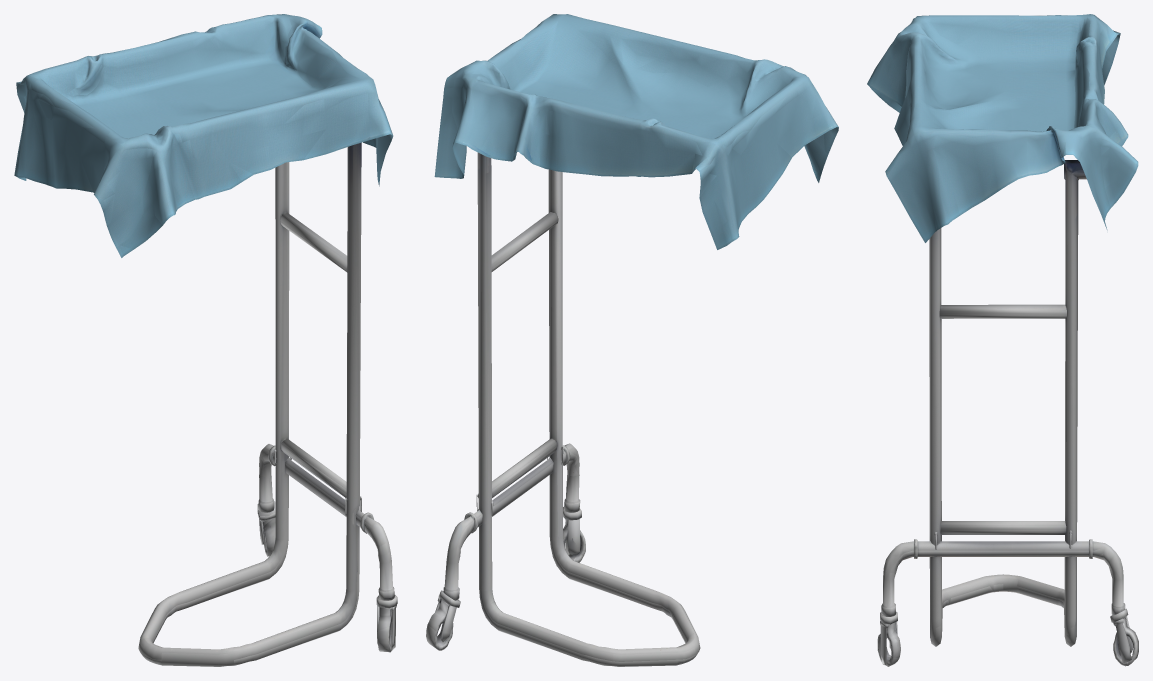
Rendered from small_mayo.glb.
3 views of the same model, side by side, from view 1: azimuth 30°, elevation 25°; view 2: azimuth 150°, elevation 25°; view 3: azimuth 270°, elevation 25° (orthographic). The views are drawn at different scales.
Visible parts, largest first — view 1: tripo_node_3ca43d76-087c-4ae4-8bca-6b03e43f53b8.002; view 2: tripo_node_3ca43d76-087c-4ae4-8bca-6b03e43f53b8.002; view 3: tripo_node_3ca43d76-087c-4ae4-8bca-6b03e43f53b8.002.
Part boxes in pixels (left/top/right/bottom): tripo_node_3ca43d76-087c-4ae4-8bca-6b03e43f53b8.002: left=14, top=14, right=397, bottom=666; tripo_node_3ca43d76-087c-4ae4-8bca-6b03e43f53b8.002: left=426, top=14, right=838, bottom=666; tripo_node_3ca43d76-087c-4ae4-8bca-6b03e43f53b8.002: left=867, top=14, right=1138, bottom=666.
Size of the model in its own units: 0.51 by 0.91 by 0.41.
1 material, 1 textured.
